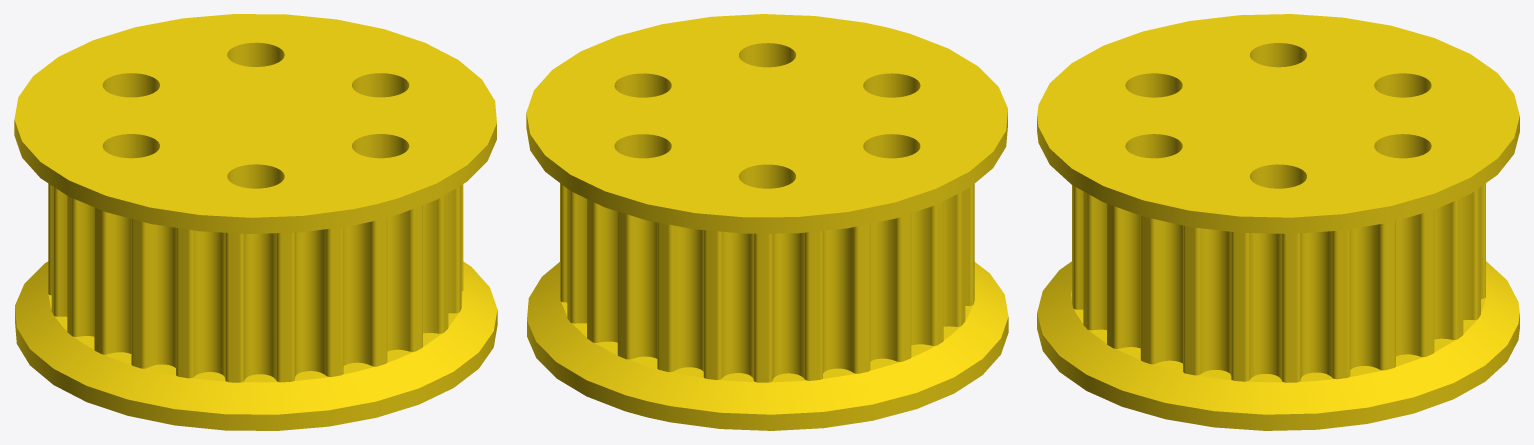
File: A26_W107_motorPulley.gltf
The picture shows the model from 3 angles, left to right: view 1: azimuth 30°, elevation 25°; view 2: azimuth 150°, elevation 25°; view 3: azimuth 270°, elevation 25°; orthographic projection.
Visible parts, largest first — view 1: mesh17609, mesh17620, mesh17619, mesh17616, mesh17662, mesh17668, mesh17656, mesh17674, mesh17651, mesh17680, mesh17794, mesh17624 (+42 smaller); view 2: mesh17609, mesh17620, mesh17616, mesh17619, mesh17710, mesh17716, mesh17704, mesh17722, mesh17698, mesh17728, mesh17692, mesh17734 (+46 smaller); view 3: mesh17609, mesh17620, mesh17616, mesh17619, mesh17764, mesh17758, mesh17770, mesh17752, mesh17776, mesh17746, mesh17782, mesh17640 (+44 smaller).
Part boxes in pixels (x1,y1,x2,y2): mesh17609: (14,14,496,217); mesh17620: (15,261,497,414); mesh17619: (15,308,497,430); mesh17616: (14,119,496,233); mesh17662: (246,233,273,377); mesh17668: (198,231,224,376); mesh17656: (295,229,321,375); mesh17674: (153,224,175,367); mesh17651: (343,223,365,365); mesh17680: (115,214,131,353); mesh17794: (387,213,402,351); mesh17624: (229,233,239,382); mesh17609: (526,14,1007,217); mesh17620: (527,262,1008,414); mesh17616: (526,112,1007,233); mesh17619: (527,317,1008,430); mesh17710: (774,233,801,377); mesh17716: (725,232,752,376); mesh17704: (823,228,847,373); mesh17722: (679,226,703,371); mesh17698: (870,219,889,361); mesh17728: (638,218,657,358); mesh17692: (911,209,923,345); mesh17734: (606,208,617,342); mesh17609: (1037,14,1519,217); mesh17620: (1037,261,1519,414); mesh17616: (1037,116,1519,233); mesh17619: (1037,313,1519,430); mesh17764: (1252,233,1279,377); mesh17758: (1301,231,1328,376); mesh17770: (1205,229,1230,374); mesh17752: (1350,225,1373,369); mesh17776: (1162,221,1182,363); mesh17746: (1396,216,1413,356); mesh17782: (1127,211,1140,348); mesh17640: (1286,233,1296,382).
Size of the model in its own units: 0.0268 by 0.0141 by 0.0269.
